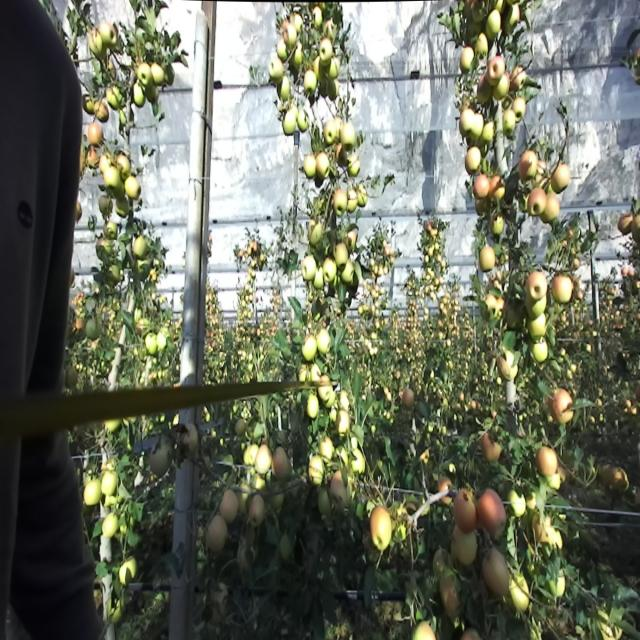apple: (477, 488, 506, 538), (482, 549, 509, 596), (454, 489, 478, 534), (370, 506, 391, 551), (548, 388, 574, 424), (452, 528, 477, 565), (150, 438, 172, 475), (330, 470, 350, 507), (508, 573, 528, 610), (206, 516, 227, 551), (219, 490, 238, 524), (526, 271, 548, 299), (536, 446, 556, 476), (551, 276, 572, 304), (88, 29, 106, 59), (551, 164, 570, 192), (499, 352, 518, 380), (248, 494, 264, 526), (519, 150, 536, 180), (487, 56, 505, 84), (528, 188, 546, 216), (481, 434, 499, 462), (272, 447, 288, 478), (83, 480, 102, 506), (543, 194, 560, 223), (611, 467, 629, 494), (183, 424, 199, 454), (533, 514, 549, 544), (508, 489, 525, 517), (411, 621, 435, 640), (256, 445, 272, 473), (119, 557, 136, 583), (486, 10, 501, 39), (107, 597, 123, 624), (103, 166, 120, 191), (340, 122, 355, 150), (440, 569, 460, 590), (459, 46, 474, 74), (465, 146, 480, 174), (100, 21, 116, 47), (349, 448, 365, 474), (479, 247, 495, 273), (434, 548, 452, 571), (101, 470, 118, 494), (309, 456, 323, 485), (505, 4, 519, 33), (102, 513, 118, 538), (438, 477, 452, 505), (88, 122, 103, 148), (125, 176, 141, 200), (525, 298, 546, 316), (473, 175, 489, 198), (237, 484, 250, 512), (302, 335, 316, 361), (334, 188, 347, 216), (282, 110, 296, 136), (528, 317, 546, 337), (617, 213, 632, 237), (106, 86, 122, 108), (316, 152, 329, 179), (459, 109, 472, 136), (308, 219, 322, 244), (319, 488, 332, 514), (302, 255, 315, 281), (477, 75, 490, 101), (138, 64, 152, 88), (317, 329, 331, 353), (269, 57, 283, 81), (472, 113, 484, 141), (319, 437, 332, 462), (337, 410, 350, 435), (335, 244, 348, 269), (513, 97, 526, 122), (133, 236, 147, 259), (95, 238, 111, 258), (532, 341, 548, 361), (117, 154, 130, 178), (323, 258, 336, 282), (94, 101, 108, 123), (490, 176, 504, 198), (307, 394, 319, 419), (86, 319, 100, 340), (304, 154, 316, 178), (304, 71, 316, 95), (476, 34, 488, 58), (503, 110, 515, 134), (536, 162, 548, 186), (348, 154, 361, 176), (512, 68, 525, 90), (334, 446, 348, 466), (277, 77, 289, 100), (320, 38, 332, 61), (284, 23, 296, 46), (494, 76, 506, 99), (319, 375, 330, 400), (152, 64, 164, 86), (134, 85, 146, 107), (145, 333, 157, 355), (276, 40, 288, 62), (324, 121, 335, 144), (82, 94, 94, 115), (327, 79, 339, 100), (115, 198, 128, 217), (99, 195, 112, 214), (270, 489, 283, 508), (312, 267, 324, 287), (402, 388, 414, 408), (460, 628, 480, 640), (483, 294, 496, 312), (298, 111, 309, 132), (280, 534, 290, 557), (342, 262, 354, 281), (327, 58, 339, 77), (482, 123, 494, 142), (632, 215, 640, 243), (348, 190, 358, 212), (323, 391, 335, 409), (109, 265, 120, 284), (336, 146, 347, 165), (104, 222, 117, 238), (358, 185, 367, 208), (314, 57, 323, 80), (472, 3, 484, 20), (255, 474, 266, 492), (548, 475, 560, 491), (556, 574, 564, 598), (99, 155, 110, 172), (492, 218, 503, 235), (346, 231, 355, 251), (292, 50, 302, 68), (313, 6, 322, 26), (340, 390, 349, 410), (68, 367, 78, 384), (235, 419, 245, 436), (249, 444, 257, 465), (311, 364, 320, 382), (527, 492, 536, 510), (157, 333, 167, 349), (146, 88, 158, 101), (294, 14, 302, 33), (88, 150, 98, 165), (299, 366, 309, 381), (334, 118, 342, 136), (492, 0, 504, 12), (243, 447, 250, 467), (105, 421, 120, 430), (558, 466, 565, 483), (116, 186, 124, 198), (291, 104, 298, 117), (497, 298, 505, 309)
